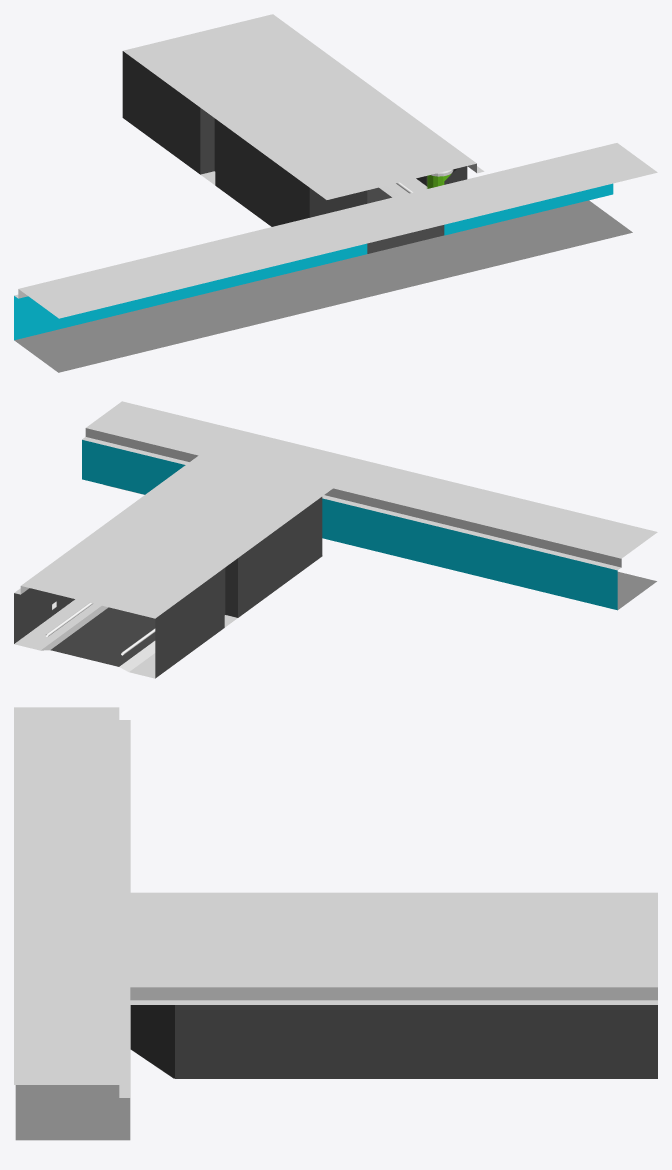
The model's file is corredor2 (3).fbx.
3 renders of one model, top to bottom at view 1: azimuth 30°, elevation 25°; view 2: azimuth 150°, elevation 25°; view 3: azimuth 270°, elevation 25°, orthographic. The views are drawn at different scales.
Visible parts, largest first — view 1: TetoComeco, Chao.001, TetoComeco.001, paredes, paredes.001, Chao; view 2: TetoComeco, TetoComeco.001, paredes, Chao.001, paredes.001, Chao; view 3: TetoComeco, TetoComeco.001, paredes, Chao.001.
Part boxes in pixels (x1,y1,x2,y2): TetoComeco: (123, 14, 484, 199); Chao.001: (14, 183, 632, 372); TetoComeco.001: (14, 143, 657, 318); paredes: (122, 51, 467, 226); paredes.001: (14, 279, 222, 340); Chao: (201, 169, 453, 253); TetoComeco: (14, 452, 337, 618); TetoComeco.001: (82, 401, 657, 570); paredes: (14, 497, 322, 678); Chao.001: (82, 440, 656, 609); paredes.001: (431, 525, 617, 610); Chao: (14, 599, 237, 678); TetoComeco: (130, 892, 657, 1004); TetoComeco.001: (14, 707, 130, 1097); paredes: (130, 1005, 657, 1078); Chao.001: (15, 1085, 130, 1140).
Bounding box in the file's own units: 1952 × 209 × 1406.
